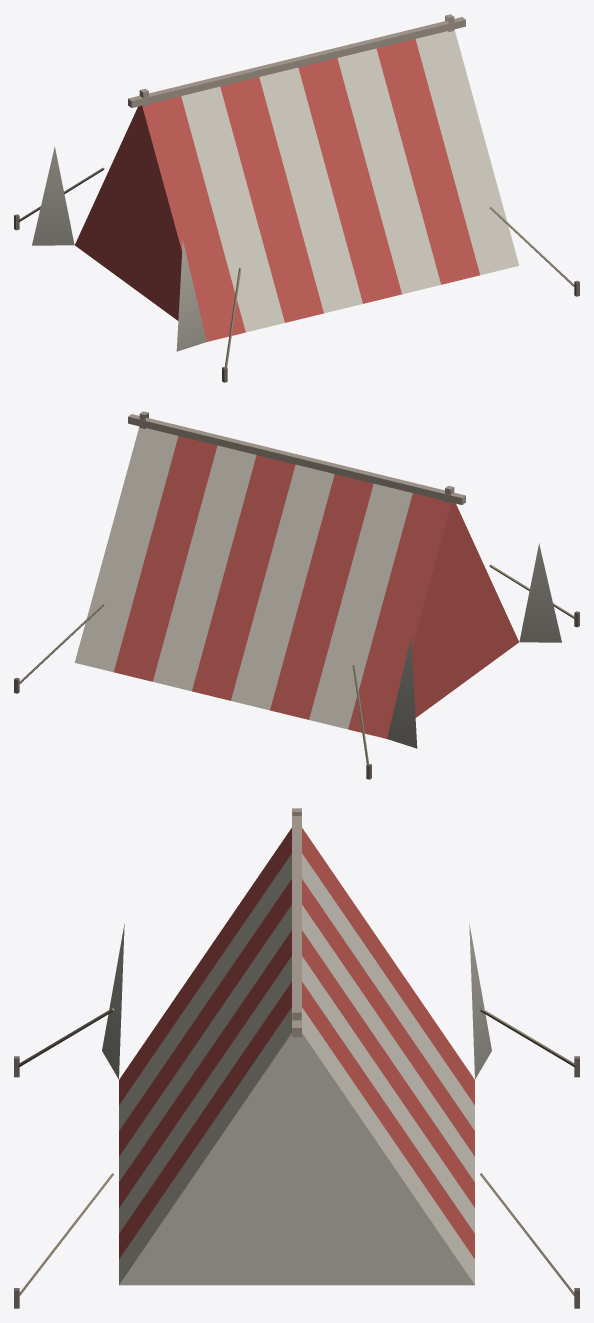
File: tent_1.glb
The picture shows the model from 3 angles, top to bottom: view 1: azimuth 30°, elevation 25°; view 2: azimuth 150°, elevation 25°; view 3: azimuth 270°, elevation 25°; orthographic projection. The views are drawn at different scales.
Visible parts, largest first — view 1: tent_1; view 2: tent_1; view 3: tent_1.
Part boxes in pixels (x1,y1,x2,y2): tent_1: (14, 14, 579, 382); tent_1: (14, 411, 579, 779); tent_1: (14, 808, 579, 1308).
Bounding box in the file's own units: 5.08 × 2.74 × 4.99.
